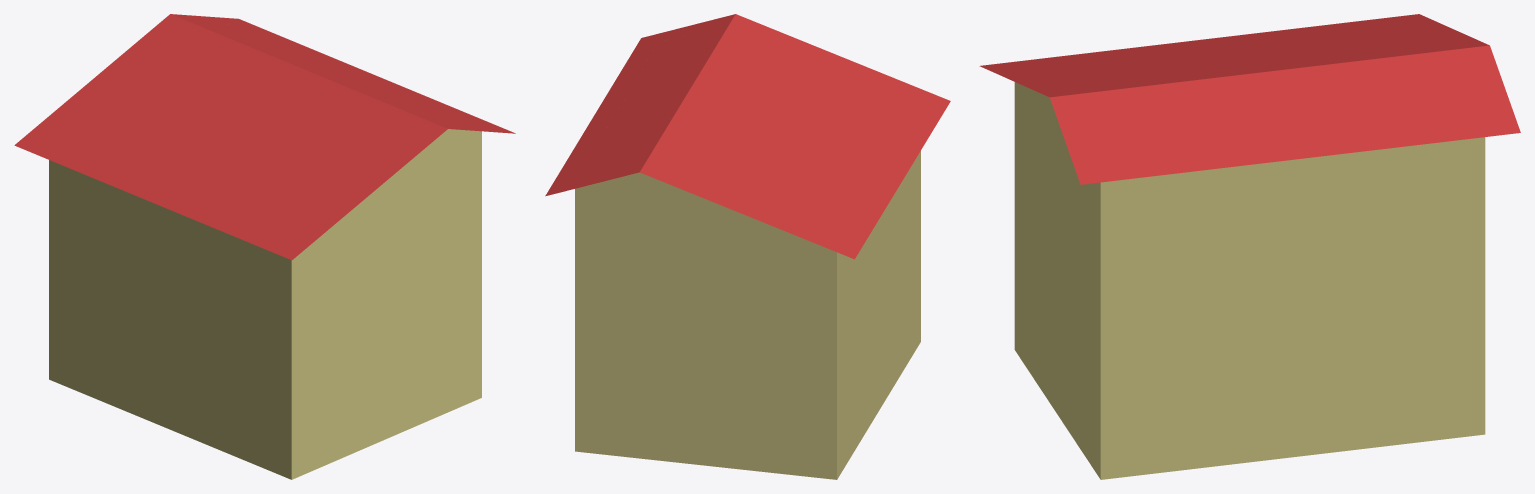
3 views of the same model, side by side, from view 1: azimuth 30°, elevation 25°; view 2: azimuth 150°, elevation 25°; view 3: azimuth 270°, elevation 25° (orthographic). The views are drawn at different scales.
Bounding box in the file's own units: 8.42 × 9.37 × 6.69.
